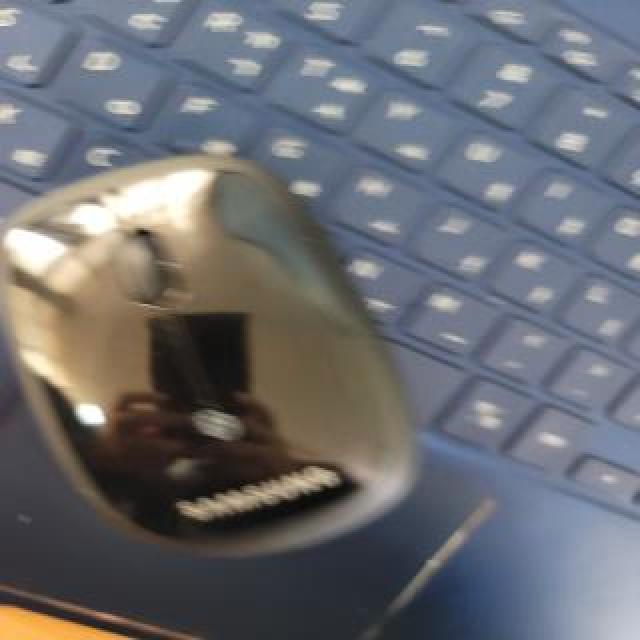mouse: (20, 156, 415, 560)
